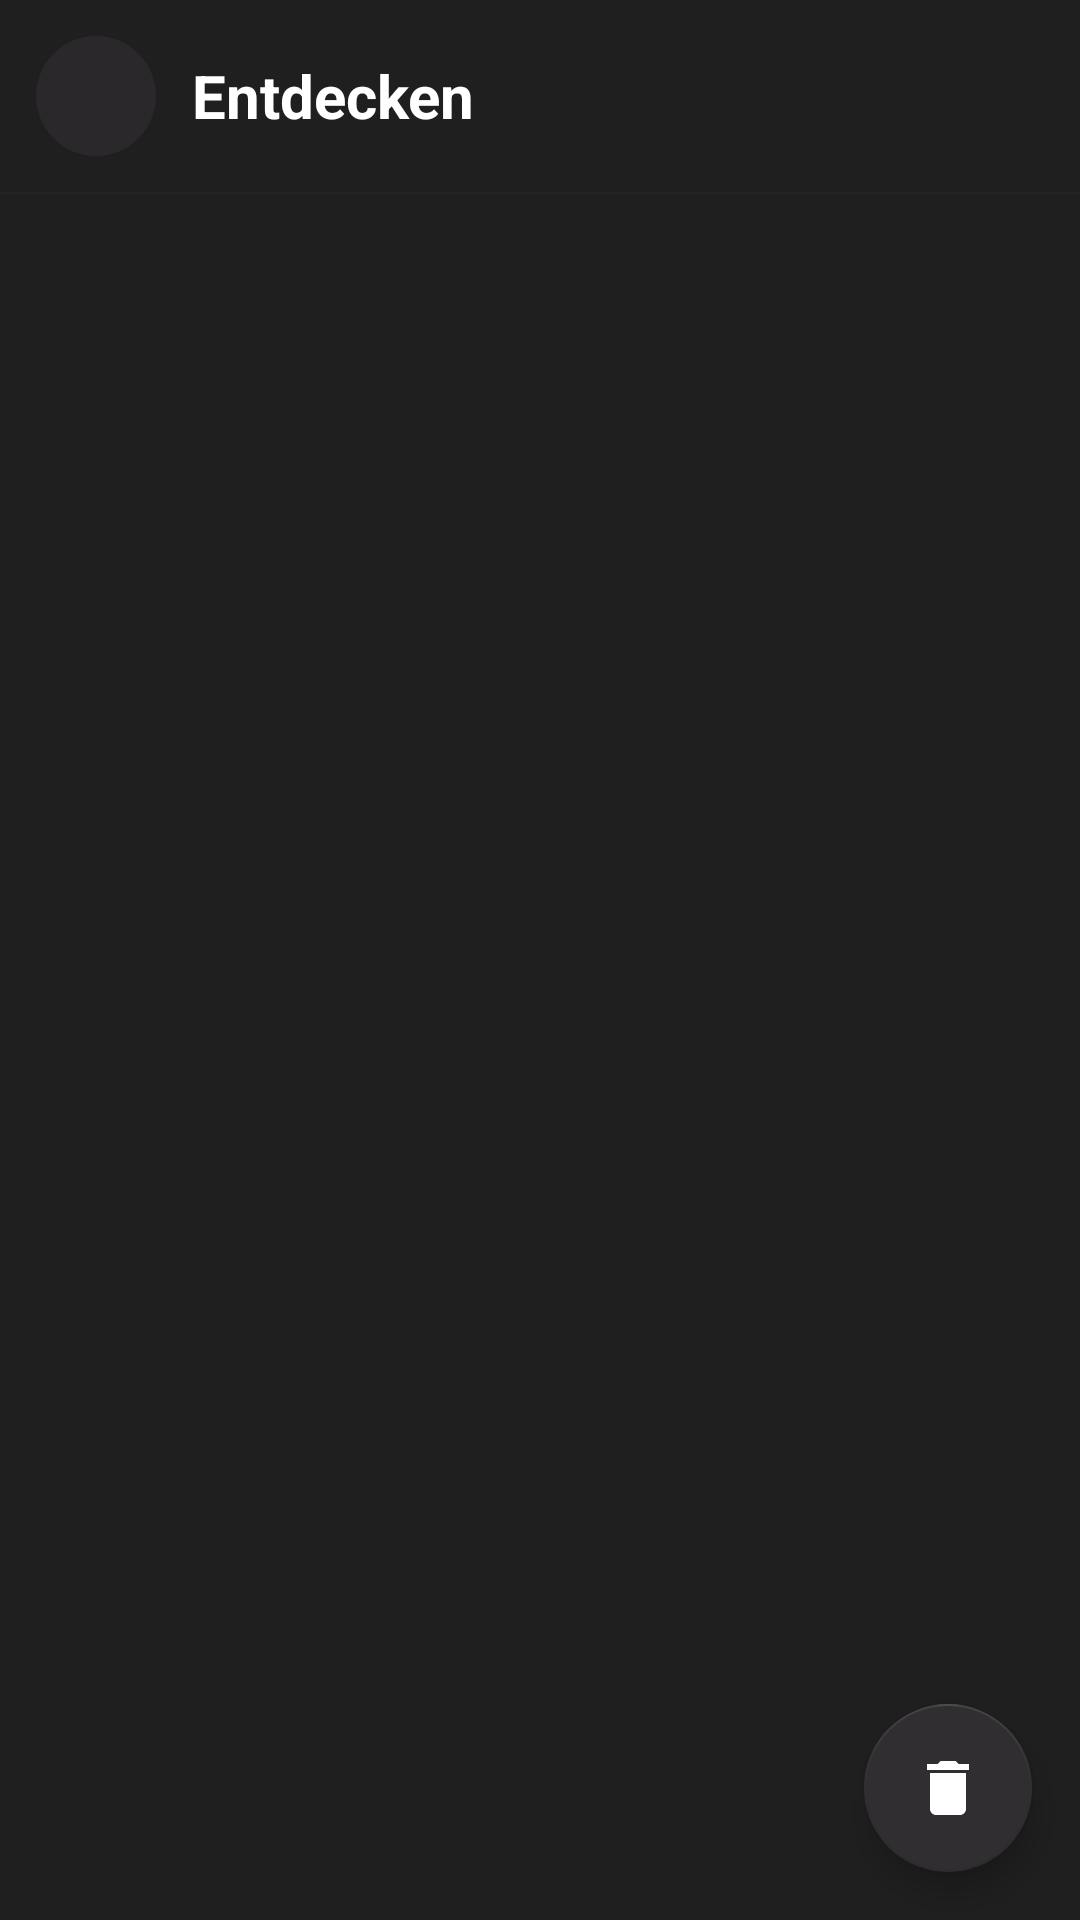

Named icons in this screenshot (1080 × 1920) and their bounding boxes, (x1, y1, x2, y2):
Verlauf löschen: (864, 1704, 1032, 1872)
